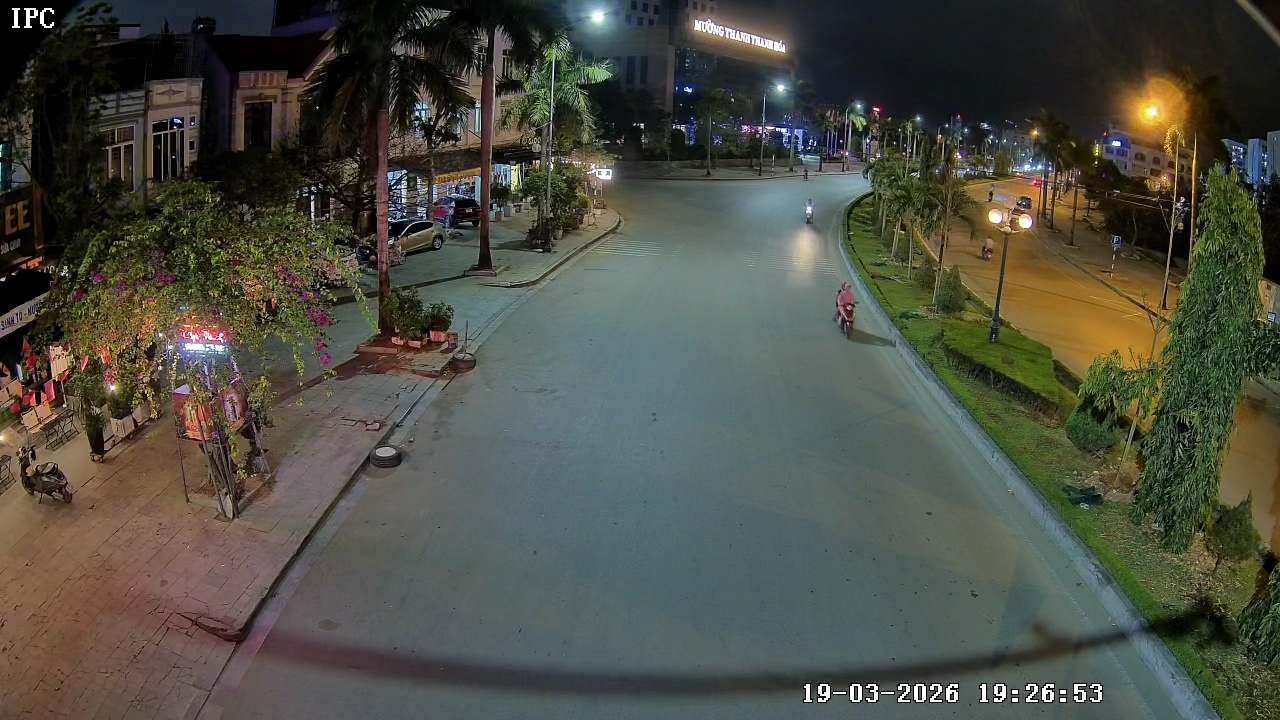motorbike: (828, 277, 859, 339), (801, 196, 818, 228)
